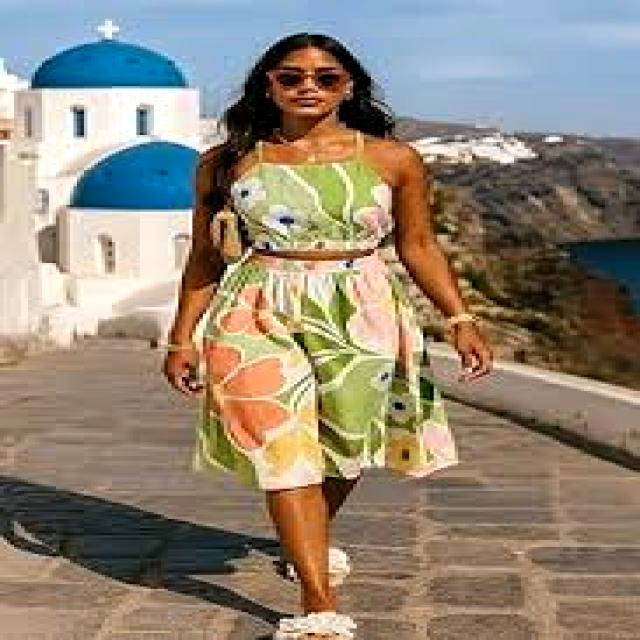dress: (193, 133, 458, 488)
